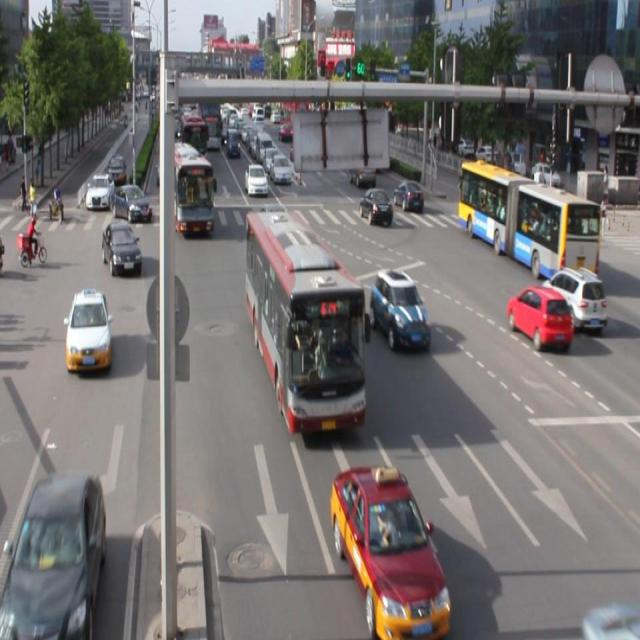car: (330, 464, 450, 630), (0, 471, 105, 640), (369, 268, 430, 352), (504, 284, 572, 350), (541, 266, 605, 330), (65, 288, 112, 373), (102, 222, 143, 278)
van: (245, 212, 364, 433), (459, 162, 599, 281)
